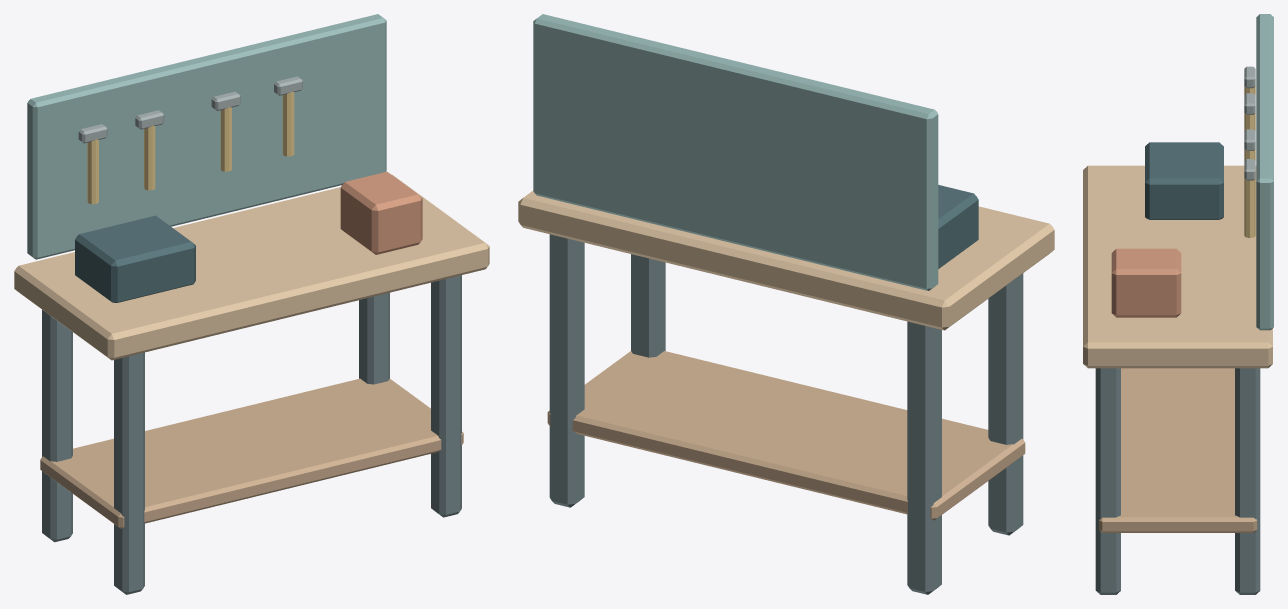
The model's file is workbench.glb.
3 renders of one model, left to right at view 1: azimuth 30°, elevation 25°; view 2: azimuth 150°, elevation 25°; view 3: azimuth 270°, elevation 25°, orthographic. The views are drawn at different scales.
Visible parts, largest first — view 1: workbench; view 2: workbench; view 3: workbench.
Boxes of the visible parts, box(x1,y1,x2,y2) form: workbench: box(14, 14, 489, 594); workbench: box(518, 14, 1054, 594); workbench: box(1083, 14, 1273, 594).
Size of the model in its own units: 1.35 by 1.47 by 0.6025.
